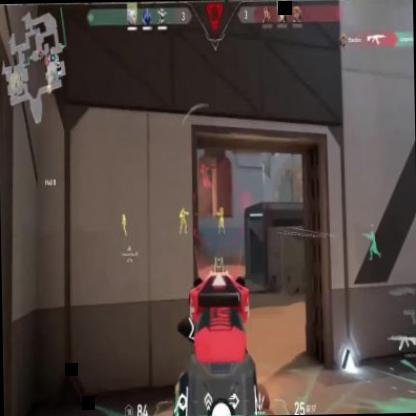enemy: (178, 206, 189, 235), (216, 206, 224, 234), (122, 212, 126, 236)
enemy_head: (219, 207, 222, 212), (181, 207, 185, 210), (122, 212, 124, 216)
